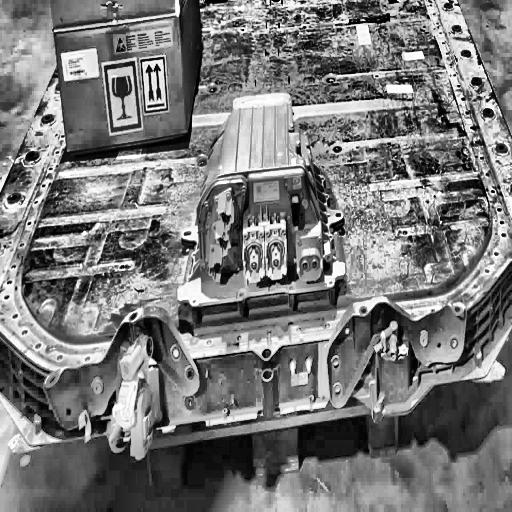bms_unit: (186, 99, 344, 304)
